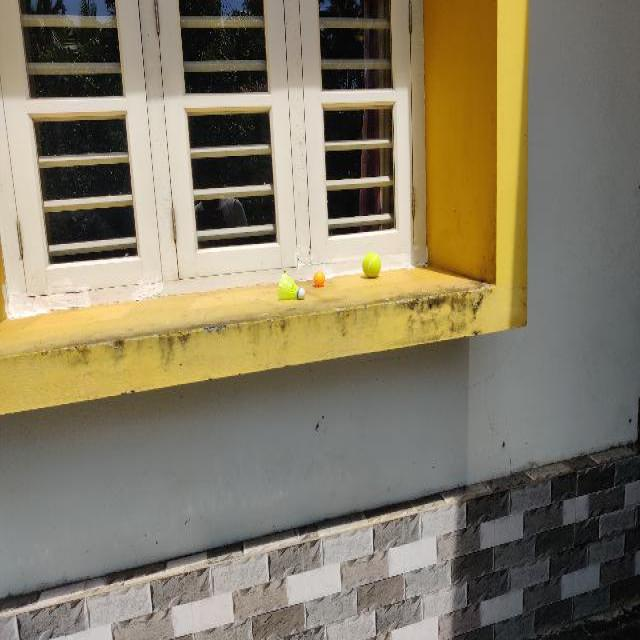ping-pong-ball: (312, 271, 324, 286)
